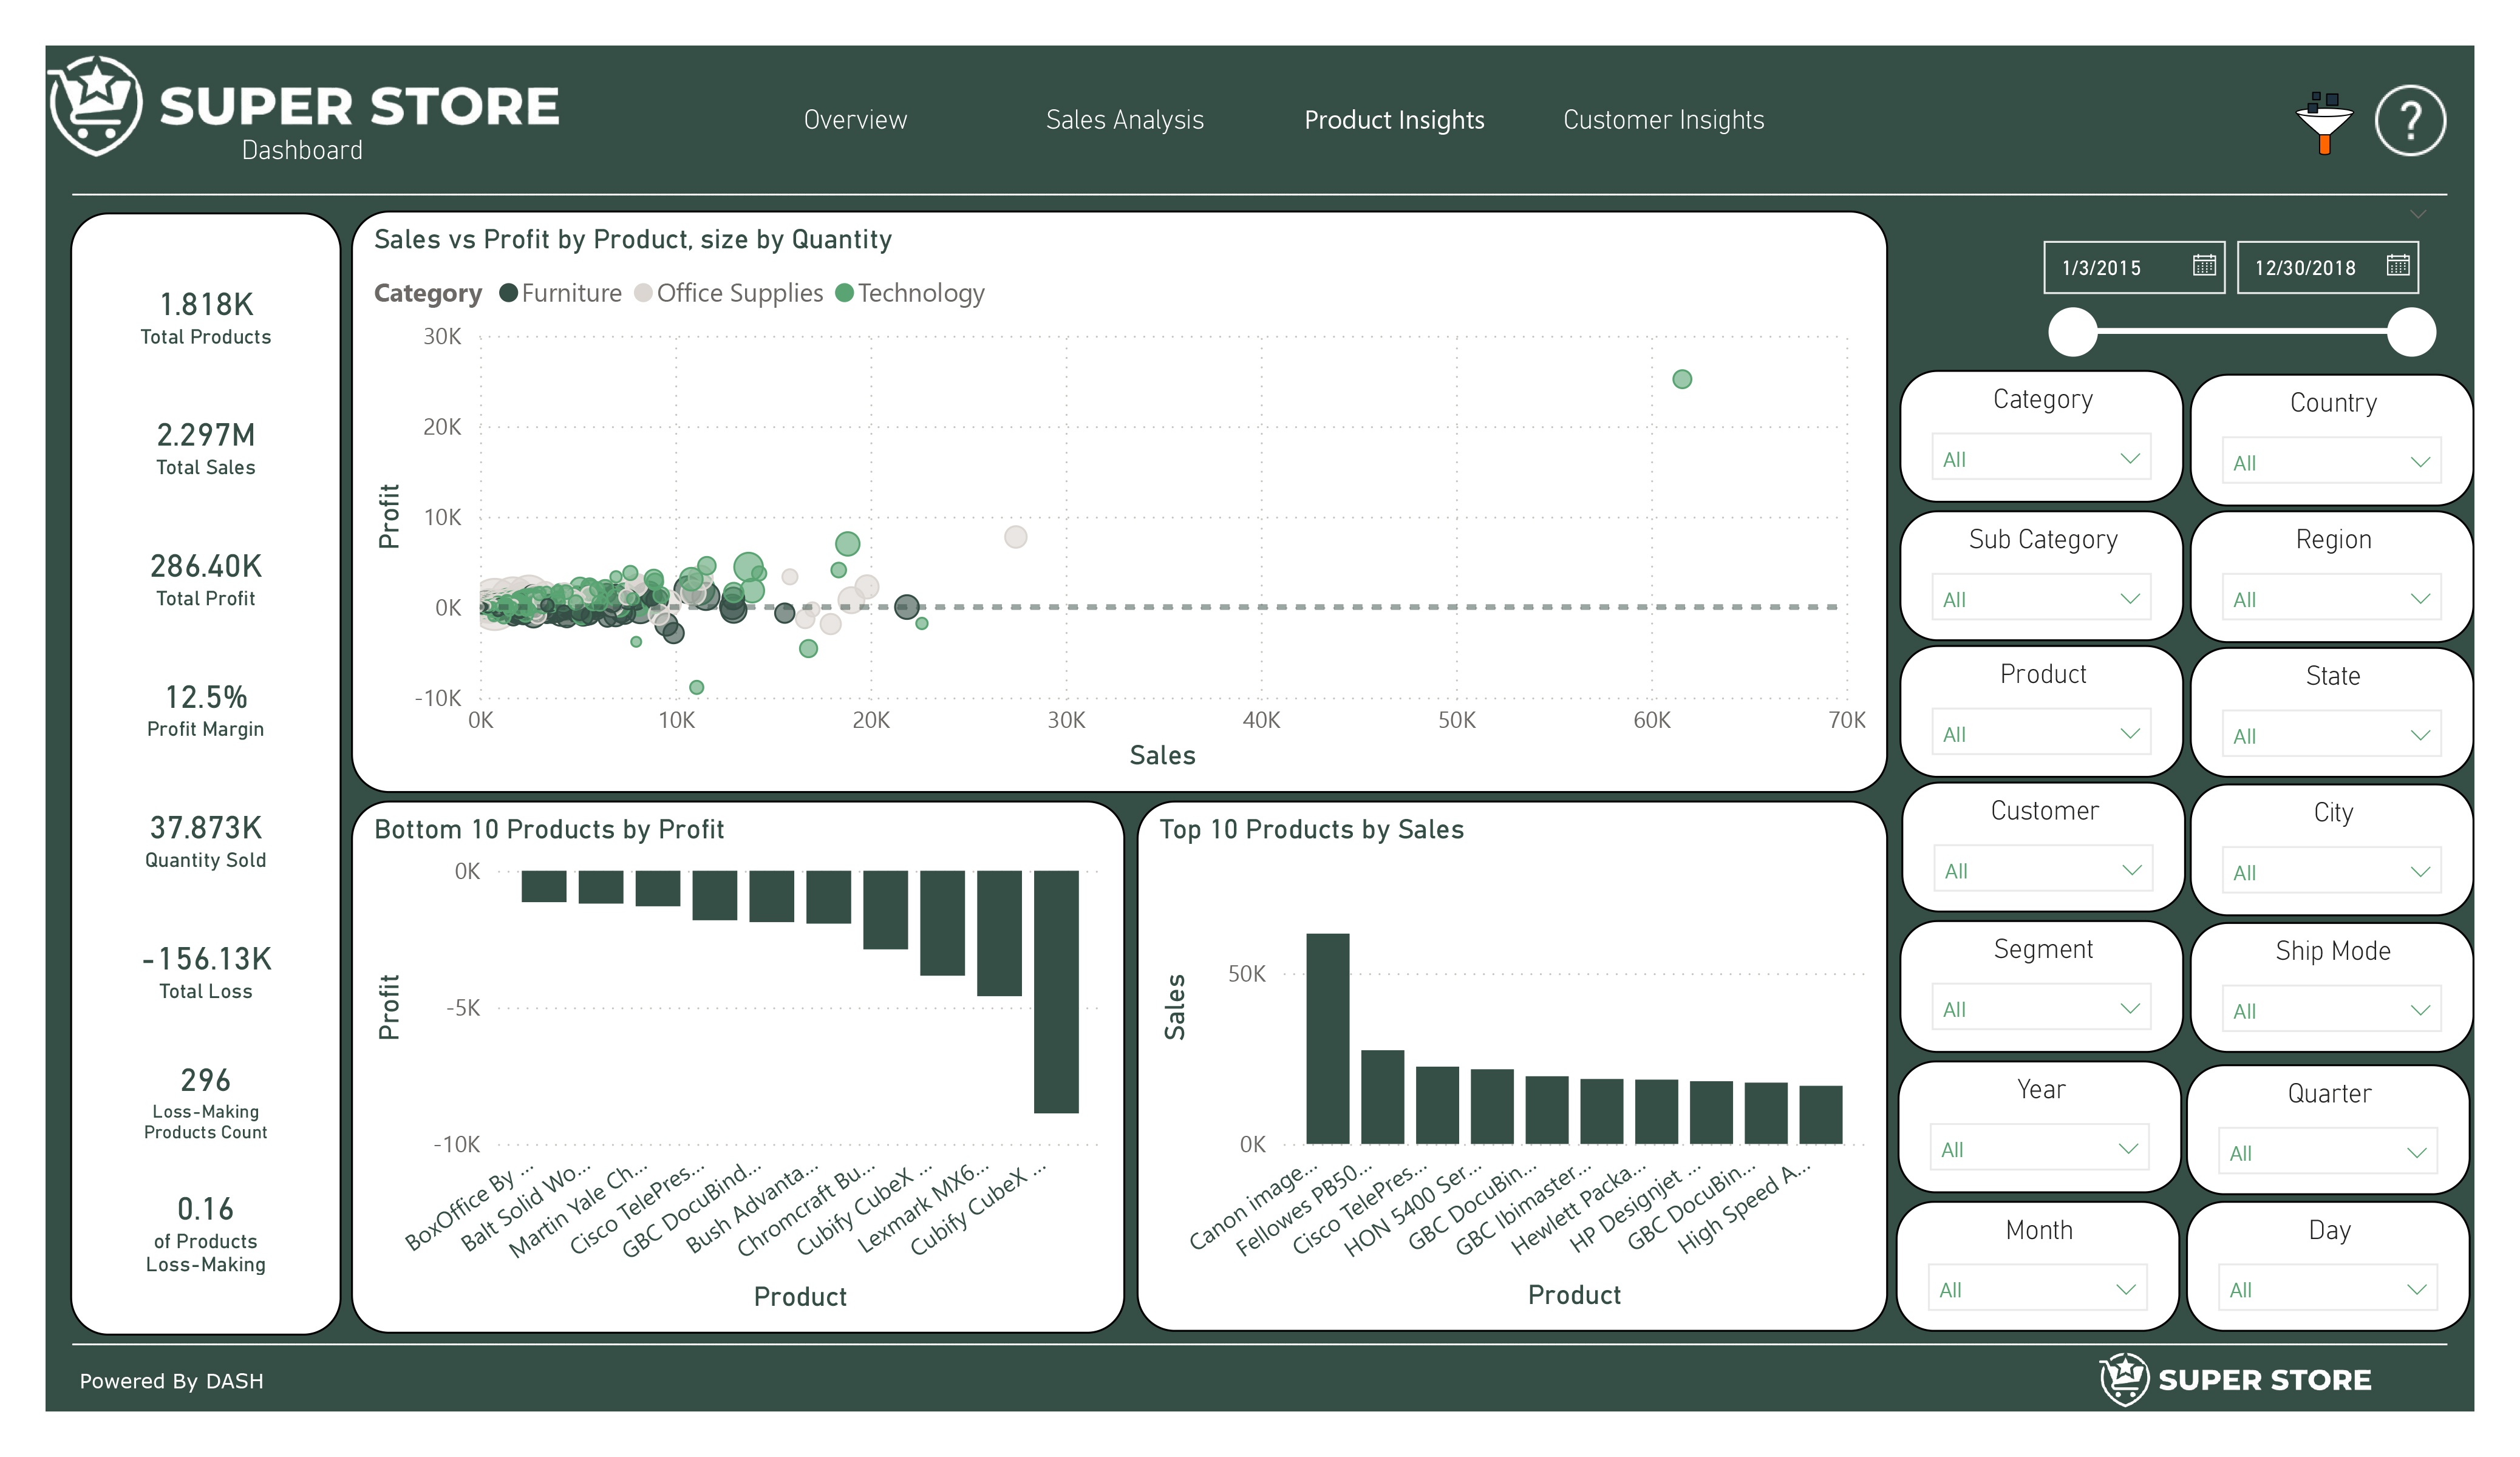

The dashboard page shown, as its layout file describes it:
{"tool":"powerbi","page":{"name":"Product Insights","canvas":[1280,720],"ordinal":2},"visuals":[{"type":"pageNavigator","box":[361.1,0,559.2,78.5],"z":0},{"type":"textbox","box":[2.1,41.4,266.8,27.9],"z":1000},{"type":"image","box":[1226,9.1,41.2,61.4],"z":2000},{"type":"image","box":[0,0,270.9,64.1],"z":3000},{"type":"textbox","box":[0,670,1280,27.8],"z":4000},{"type":"image","box":[1040,688.8,227.5,28.8],"z":5000},{"type":"slicer","fields":{"Values":["Order.order_date"]},"box":[1040.1,78.6,227.5,97.2],"z":6000},{"type":"textbox","box":[0,64.4,1280,27.8],"z":7000},{"type":"textbox","box":[13.1,688.8,133.8,31.2],"z":8000},{"type":"image","box":[1183.8,22.1,34.2,37.2],"z":9000},{"type":"cardVisual","fields":{"Data":["Count(Product.product_name)","Calculations Measure.Total Sales","Calculations Measure.Total Profit","Calculations Measure.Profit Margin","Calculations Measure.Total Quantity","Calculations Measure.Total Loss","Calculations Measure.Loss-Making Products Count","Calculations Measure.% of Products Loss-Making"]},"box":[13.1,87.5,142.8,592.4],"z":10000},{"type":"slicer","title":"Country","fields":{"Values":["Country.country"]},"box":[1129.8,172.5,150,70],"z":11000},{"type":"slicer","title":"State","fields":{"Values":["State.state"]},"box":[1130.1,316.7,149.9,69.4],"z":12000},{"type":"slicer","title":"Region","fields":{"Values":["Region.region"]},"box":[1130.1,245.3,149.9,69.4],"z":13000},{"type":"slicer","title":"Sub Category","fields":{"Values":["Sub Category.sub_category"]},"box":[977.5,244.9,149.9,69.4],"z":14000},{"type":"slicer","title":"Product","fields":{"Values":["Product.product_name"]},"box":[977.5,316.3,149.9,69.4],"z":15000},{"type":"slicer","title":"Category","fields":{"Values":["Category.category"]},"box":[977.5,171.5,149.9,69.4],"z":16000},{"type":"slicer","title":"City","fields":{"Values":["City.city"]},"box":[1130.1,389.1,149.9,69.4],"z":17000},{"type":"slicer","title":"Ship Mode","fields":{"Values":["Ship Mode.ship_mode"]},"box":[1130.1,461.5,149.9,69.4],"z":18000},{"type":"slicer","title":"Customer","fields":{"Values":["Customer.customer_name"]},"box":[978.5,387.7,149.9,69.4],"z":19000},{"type":"slicer","title":"Segment","fields":{"Values":["Segment.segment"]},"box":[977.5,461.2,149.9,69.4],"z":20000},{"type":"slicer","title":"Quarter","fields":{"Values":["Calendar.Quarter"]},"box":[1128,536.6,149.9,69.4],"z":21000},{"type":"slicer","title":"Day","fields":{"Values":["Calendar.Day Name"]},"box":[1128,609,149.9,69.4],"z":22000},{"type":"slicer","title":"Year","fields":{"Values":["Calendar.Year"]},"box":[976.4,535.2,149.9,69.4],"z":23000},{"type":"slicer","title":"Month","fields":{"Values":["Calendar.Month Name"]},"box":[975.4,608.6,149.9,69.4],"z":24000},{"type":"clusteredColumnChart","title":"Top 10 Products by Sales","fields":{"Category":["Product.product_name"],"Y":["Sum(Order Details.sales)"]},"box":[575.4,398.4,396,279.9],"z":25000},{"type":"clusteredColumnChart","title":"Bottom 10 Products by Profit","fields":{"Category":["Product.product_name"],"Y":["Calculations Measure.Total Profit"]},"box":[161.5,398.4,407.9,281.1],"z":26000},{"type":"scatterChart","title":"Sales vs Profit by Product, size by Quantity","fields":{"Category":["Product.product_name"],"Y":["Calculations Measure.Total Profit"],"X":["Calculations Measure.Total Sales"],"Size":["Calculations Measure.Total Quantity"],"Series":["Category.category"]},"box":[161.5,87.3,809.9,306.2],"z":27000}]}

Visuals, with their boxes on the page's 1280x720 design canvas (x1, y1, x2, y2). These are canvas units, not pixel positions in the 2520x1457 screenshot, which may show the page scaled, cropped or inside an application window:
pageNavigator: (x1=361, y1=0, x2=920, y2=78)
textbox: (x1=2, y1=41, x2=269, y2=69)
image: (x1=1226, y1=9, x2=1267, y2=70)
image: (x1=0, y1=0, x2=271, y2=64)
textbox: (x1=0, y1=670, x2=1280, y2=698)
image: (x1=1040, y1=689, x2=1268, y2=718)
slicer - Order.order_date: (x1=1040, y1=79, x2=1268, y2=176)
textbox: (x1=0, y1=64, x2=1280, y2=92)
textbox: (x1=13, y1=689, x2=147, y2=720)
image: (x1=1184, y1=22, x2=1218, y2=59)
cardVisual - Count(Product.product_name) x Calculations Measure.Total Sales: (x1=13, y1=88, x2=156, y2=680)
"Country" slicer: (x1=1130, y1=172, x2=1280, y2=242)
"State" slicer: (x1=1130, y1=317, x2=1280, y2=386)
"Region" slicer: (x1=1130, y1=245, x2=1280, y2=315)
"Sub Category" slicer: (x1=978, y1=245, x2=1127, y2=314)
"Product" slicer: (x1=978, y1=316, x2=1127, y2=386)
"Category" slicer: (x1=978, y1=172, x2=1127, y2=241)
"City" slicer: (x1=1130, y1=389, x2=1280, y2=458)
"Ship Mode" slicer: (x1=1130, y1=462, x2=1280, y2=531)
"Customer" slicer: (x1=978, y1=388, x2=1128, y2=457)
"Segment" slicer: (x1=978, y1=461, x2=1127, y2=531)
"Quarter" slicer: (x1=1128, y1=537, x2=1278, y2=606)
"Day" slicer: (x1=1128, y1=609, x2=1278, y2=678)
"Year" slicer: (x1=976, y1=535, x2=1126, y2=605)
"Month" slicer: (x1=975, y1=609, x2=1125, y2=678)
"Top 10 Products by Sales" clusteredColumnChart: (x1=575, y1=398, x2=971, y2=678)
"Bottom 10 Products by Profit" clusteredColumnChart: (x1=162, y1=398, x2=569, y2=680)
"Sales vs Profit by Product, size by Quantity" scatterChart: (x1=162, y1=87, x2=971, y2=394)
